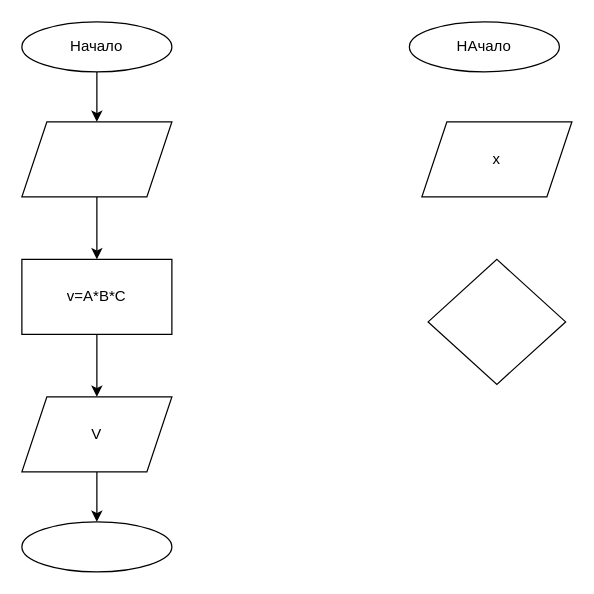
Some shapes in this 594 by 594 pixel diagram are drawn without their labels. Here are the shapes that lost their labels. From the top down, the centre of each, then its label:
At (96,159): "a,b,c".
At (96,546): "край".
